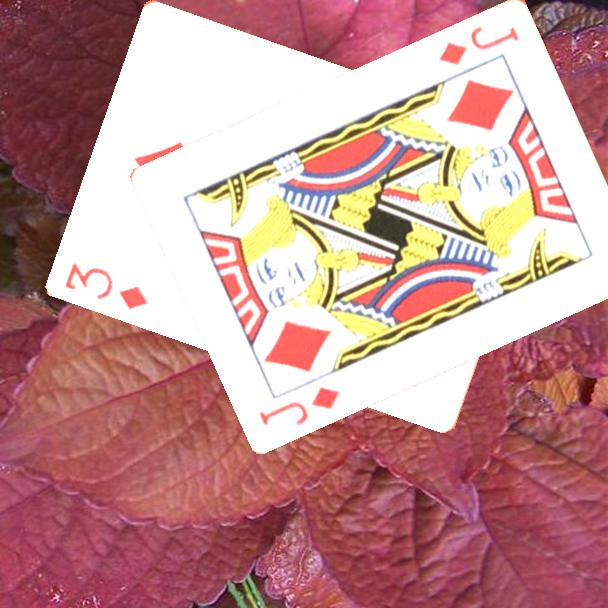d03: (62, 259, 152, 313)
d11: (435, 22, 522, 68), (256, 382, 343, 428)
